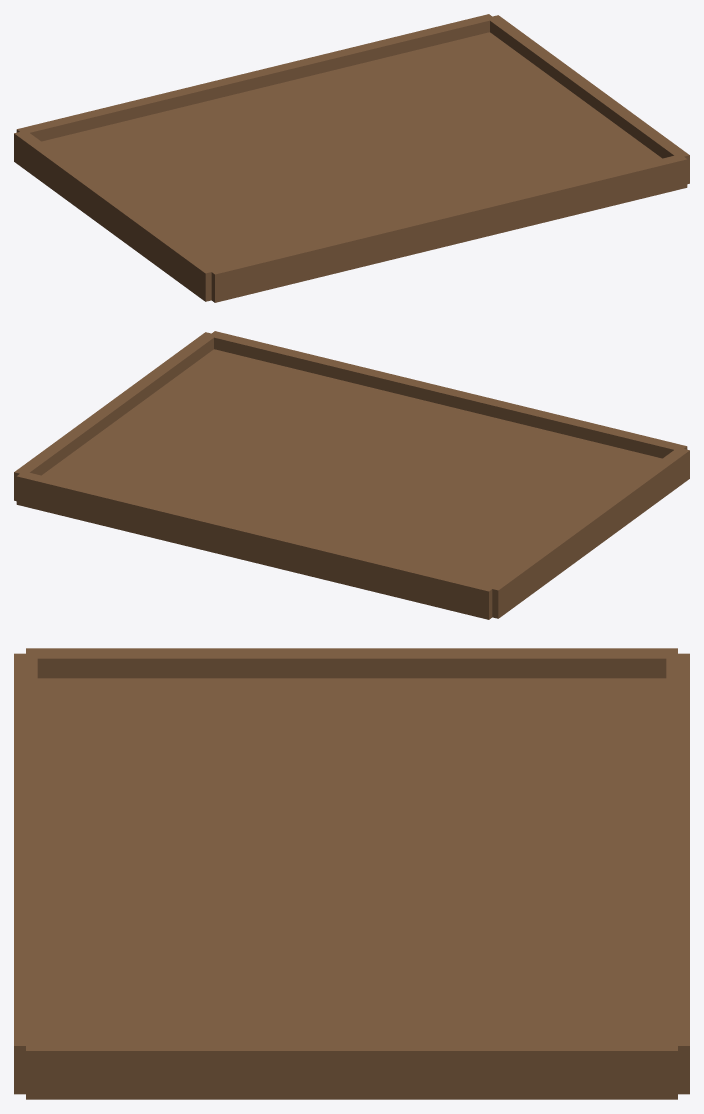
The model's file is L-08_baking_sheet.glb.
3 renders of one model, top to bottom at view 1: azimuth 30°, elevation 25°; view 2: azimuth 150°, elevation 25°; view 3: azimuth 270°, elevation 25°, orthographic. The views are drawn at different scales.
Parts seen in each view (by area): view 1: L-08_baking_sheet; view 2: L-08_baking_sheet; view 3: L-08_baking_sheet.
Boxes of the visible parts, box(x1,y1,x2,y2) form: L-08_baking_sheet: box(14, 14, 689, 302); L-08_baking_sheet: box(14, 331, 689, 619); L-08_baking_sheet: box(14, 648, 689, 1099).
Size of the model in its own units: 0.482 by 0.027 by 0.342.
